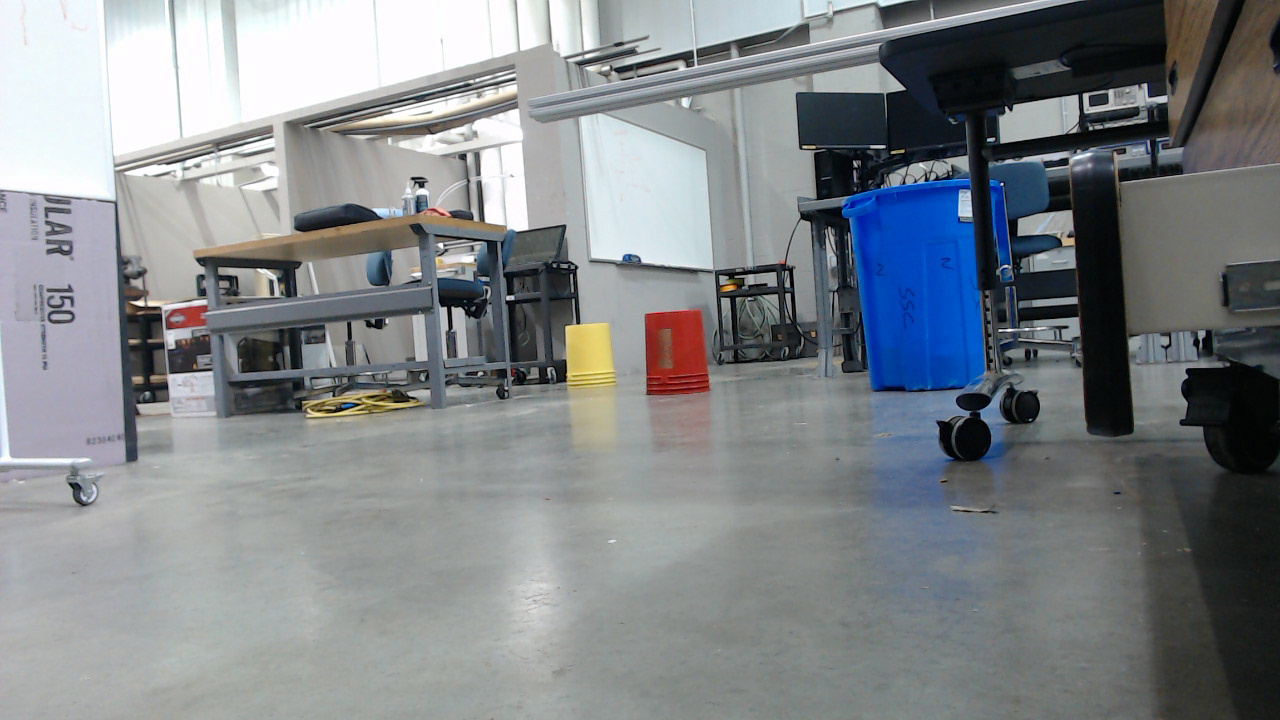red_bucket: (647, 312, 719, 404)
yellow_bucket: (566, 325, 625, 396)
